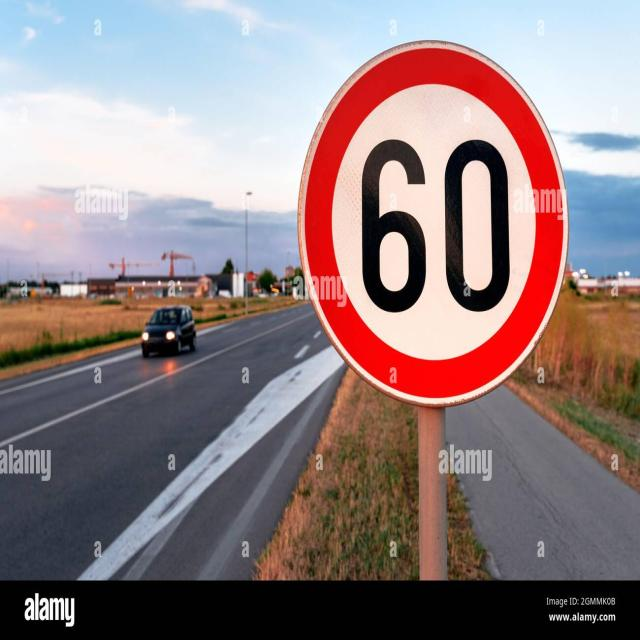speed_60: (298, 39, 570, 409)
